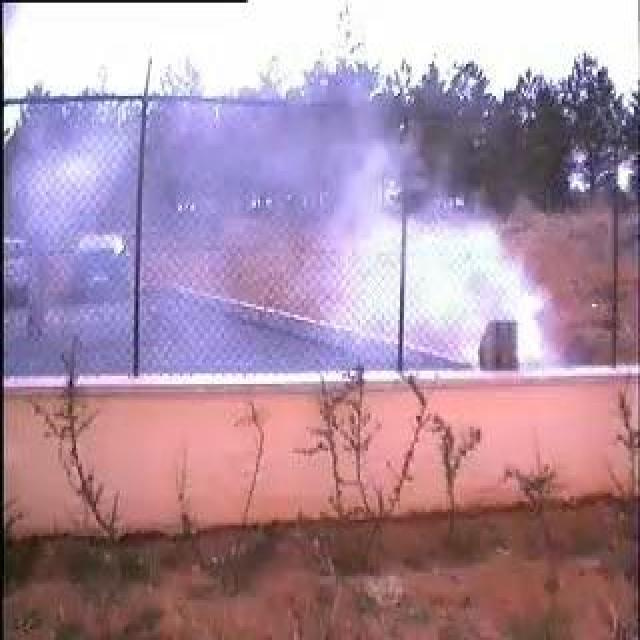Smoke: (21, 116, 541, 372)
